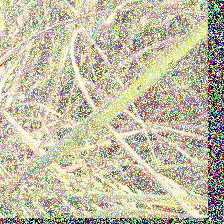Bacterial_Leaf_Blight: (165, 54, 180, 69), (132, 79, 147, 92), (58, 141, 71, 150)
